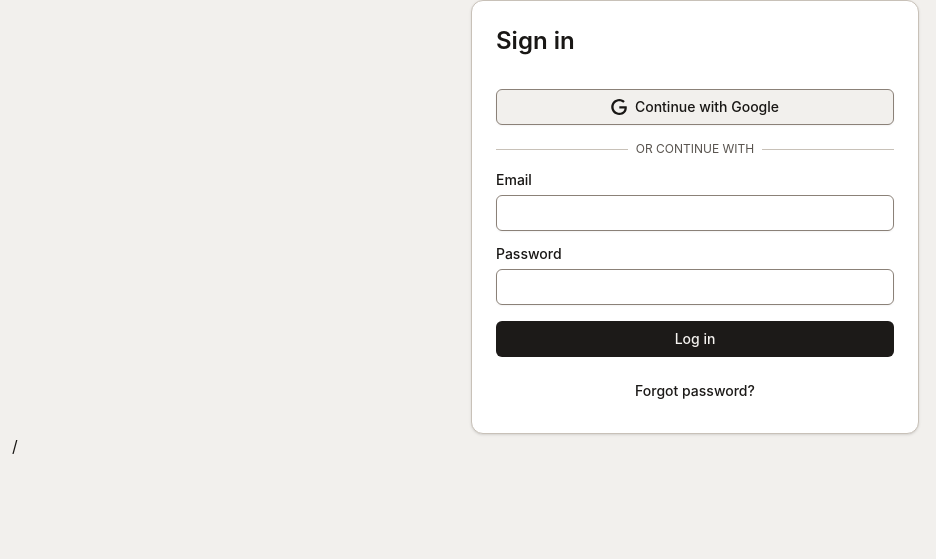
Login › renders a localized error when credentials are rejected (401)
The width and height of the screenshot is (936, 559).
In the field labelled "Email": (695, 213) [496,195,894,231], type "a@b.co"
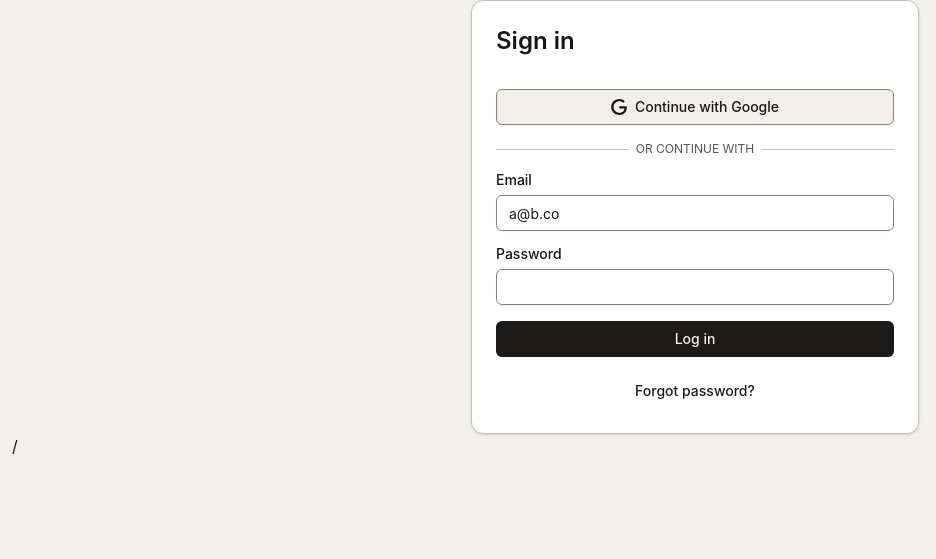
In the password field labelled "Password": (695, 287) [496,269,894,305], type "hunter2!"
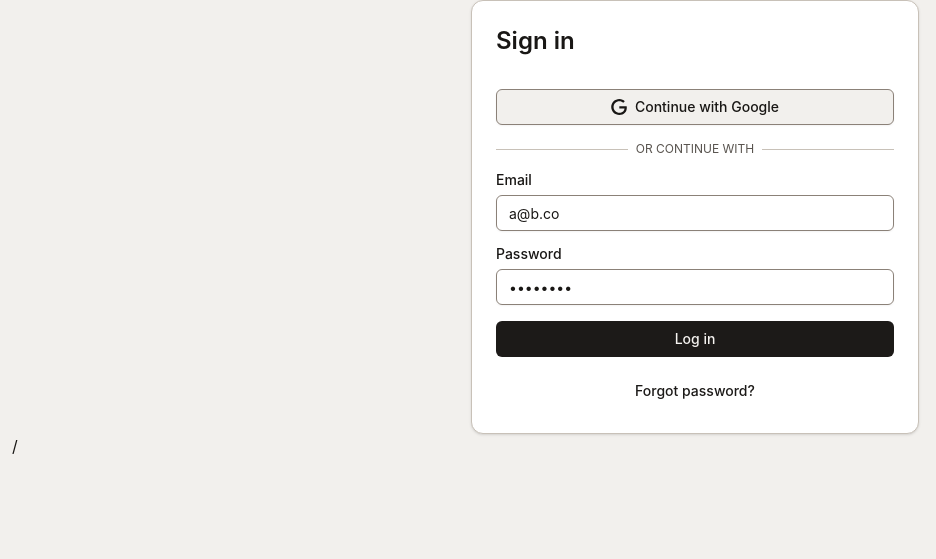
Click the button "Log in": (695, 339) [496,321,894,357]
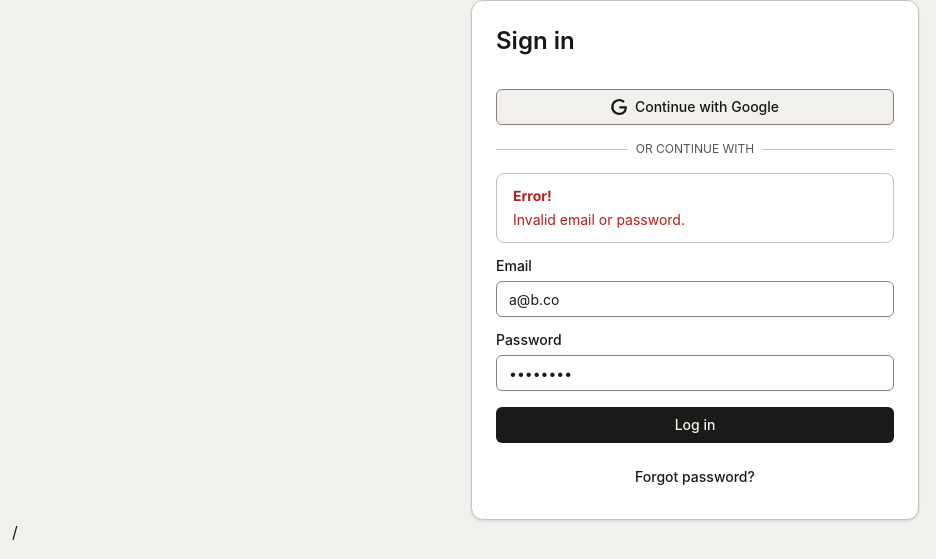
Check: the text with test id "location" reads "/", box [12,522,18,542]
Check: the message shows "Invalid email or password.", box [513,211,685,228]
